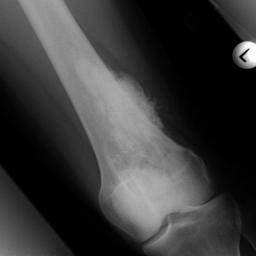cancer: (74, 53, 167, 149)
